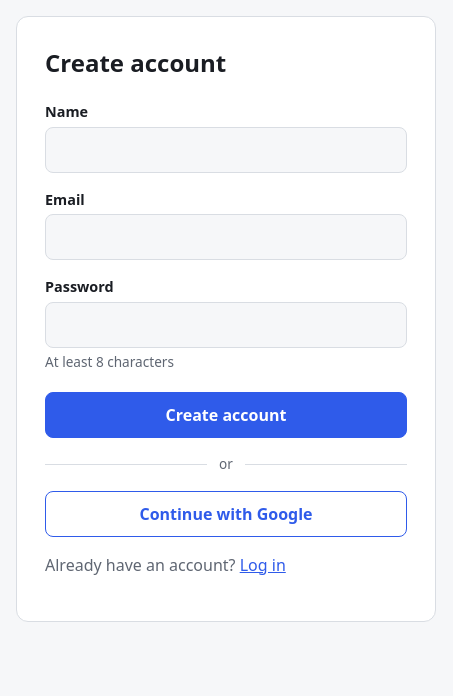
register form › shows field errors returned by the server
In the field labelled "Name": (226,150) [45, 127, 407, 173], type "Erin"
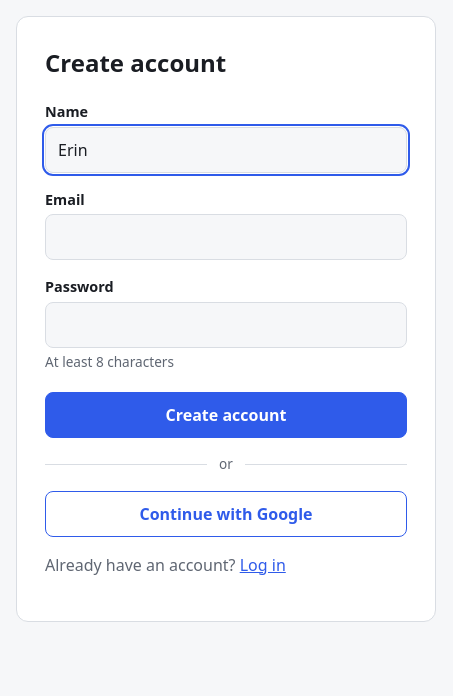
In the field labelled "Email": (226,237) [45, 214, 407, 260], type "erin@example.com"
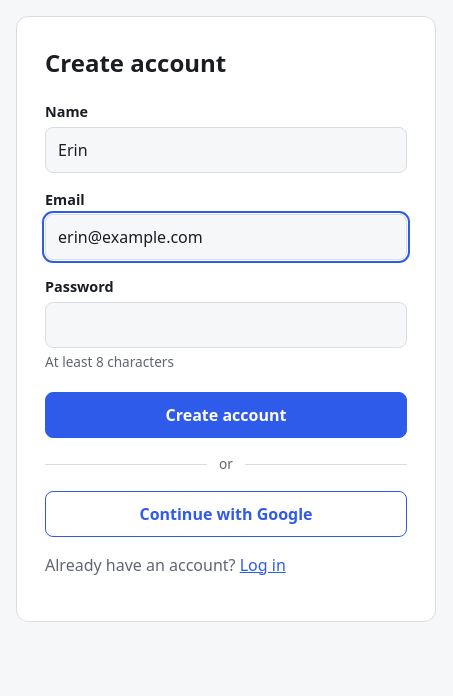
In the password field labelled "Password": (226,325) [45, 302, 407, 348], type "long-enough-pw"
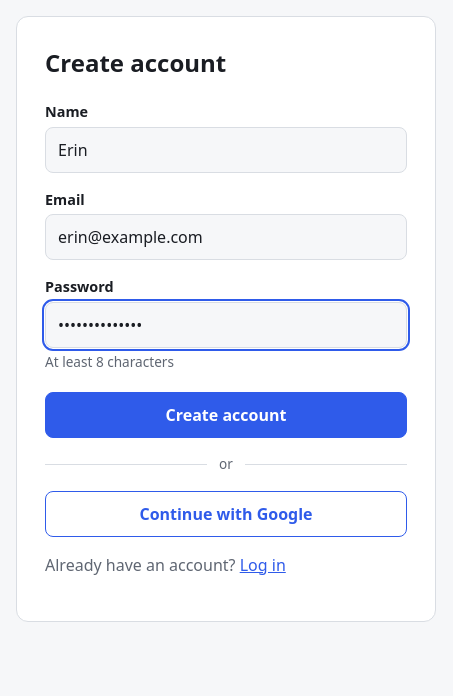
Click the button "Create account": (226,415) [45, 392, 407, 438]
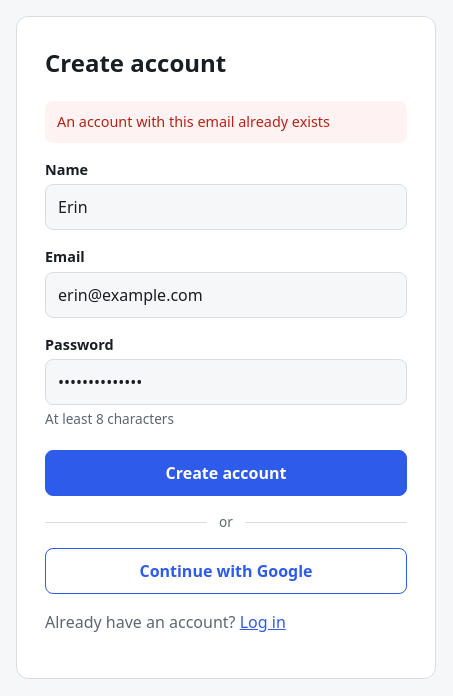
Result: the message shows "already exists" at [57, 112, 330, 131]
